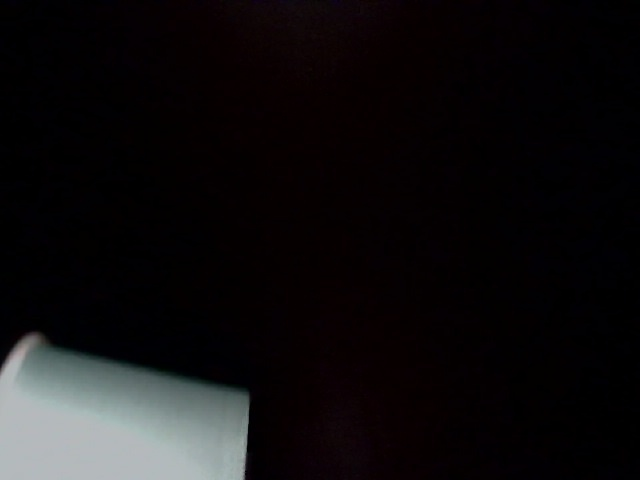KHSLJ: (158, 1, 483, 148)
